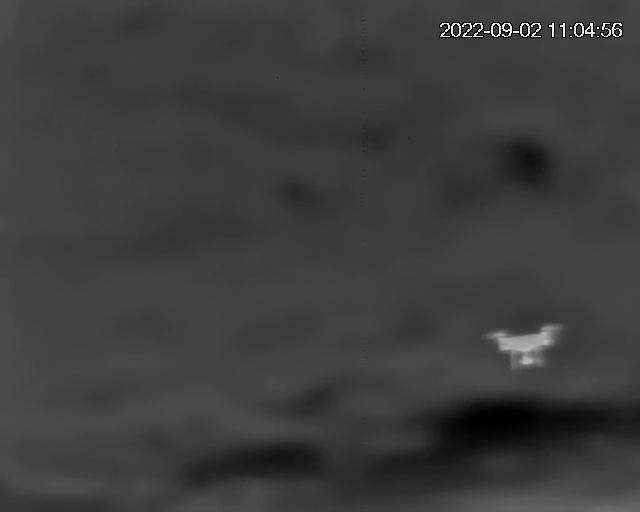DJI-Phantom: (487, 328, 563, 372)
